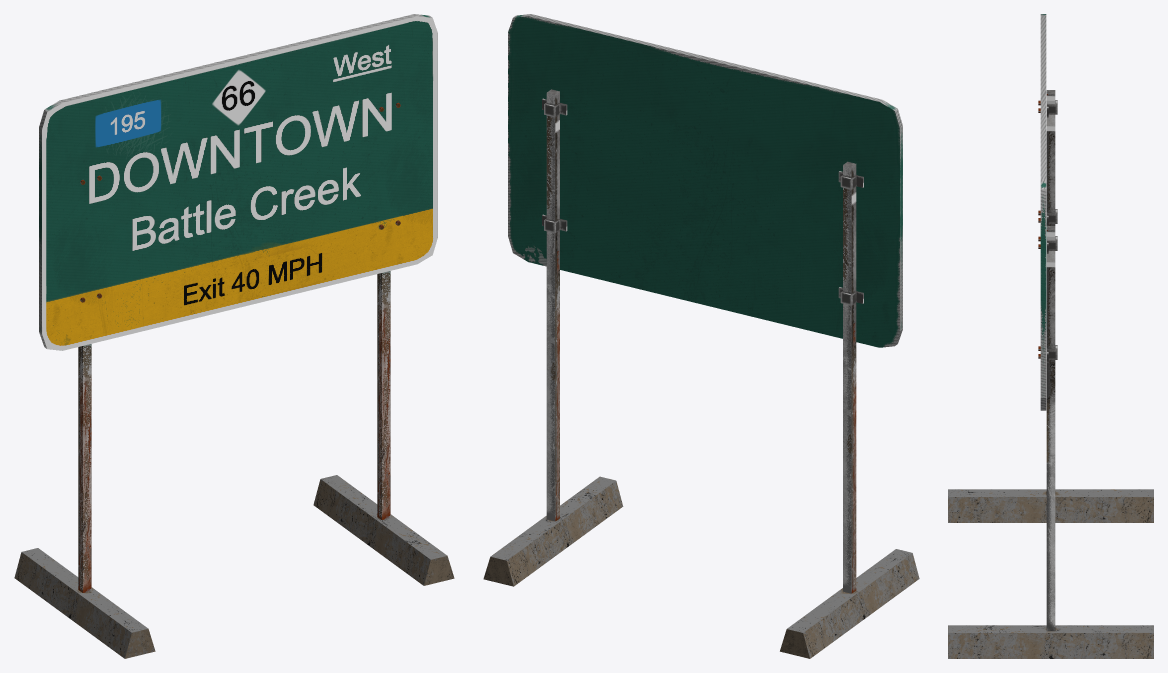
The model's file is sign_road.obj.
3 renders of one model, left to right at view 1: azimuth 30°, elevation 25°; view 2: azimuth 150°, elevation 25°; view 3: azimuth 270°, elevation 25°, orthographic. The views are drawn at different scales.
Visible parts, largest first — view 1: sign_road; view 2: sign_road; view 3: sign_road.
Part boxes in pixels (<box>): sign_road: <box>14,14,454,658</box>; sign_road: <box>483,14,919,658</box>; sign_road: <box>948,14,1153,658</box>.
Size of the model in its own units: 3.33 by 4.2 by 1.61.
1 material, 1 textured.
